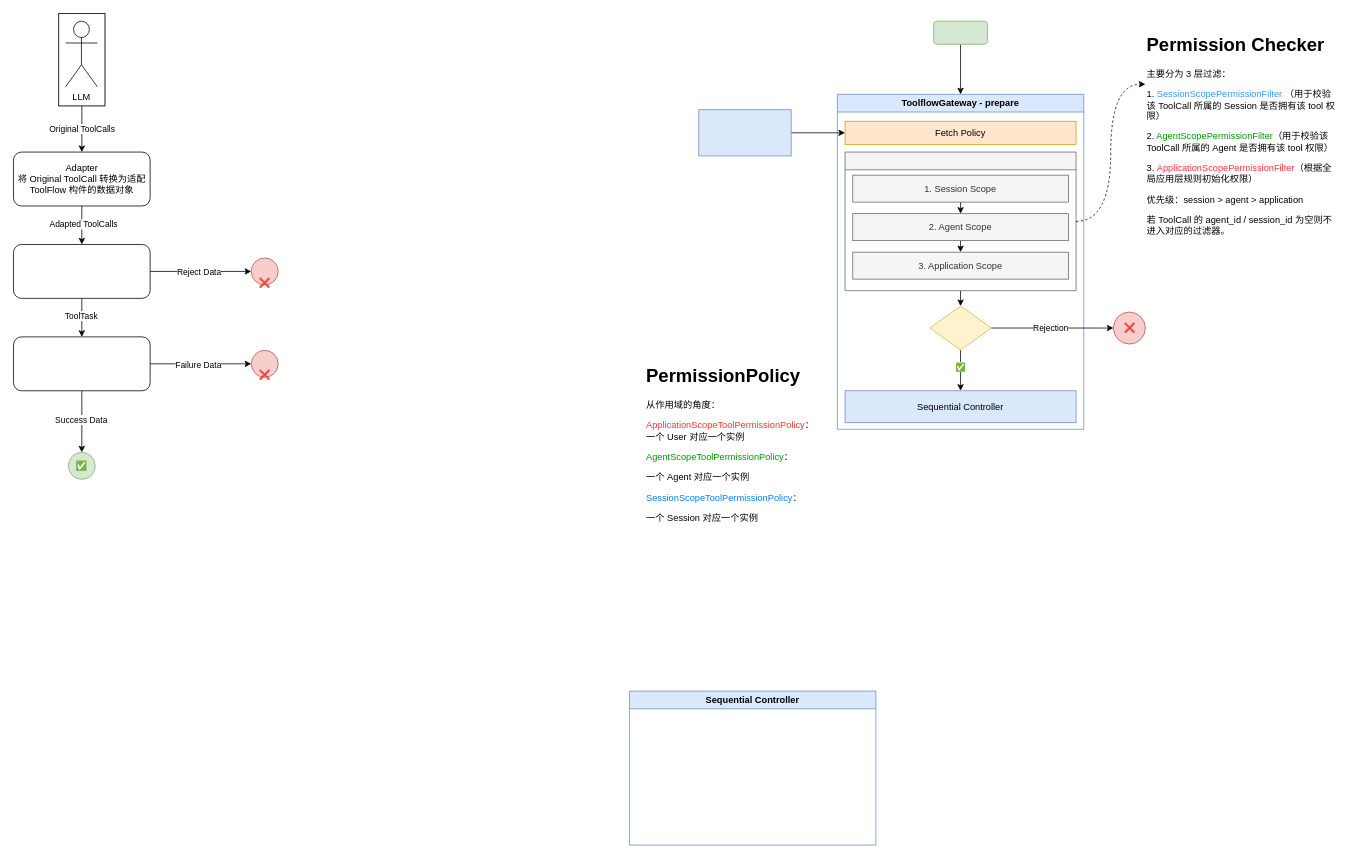
Some shapes in this 1351 by 859 pixel diagram are drawn without their labels. Here are the shapes that lost their labels. From the top down, the box of each, then its label:
(933, 20, 988, 44): ToolCall
(698, 109, 791, 156): PolicyManagerRepo
(844, 151, 1076, 291): Permission Checker
(13, 244, 150, 298): Tool Gateway 对 Tool Call 进行权限控制与时序控制
(929, 305, 991, 350): allow?
(13, 336, 150, 391): Tool Executor 执行 Tool Call
